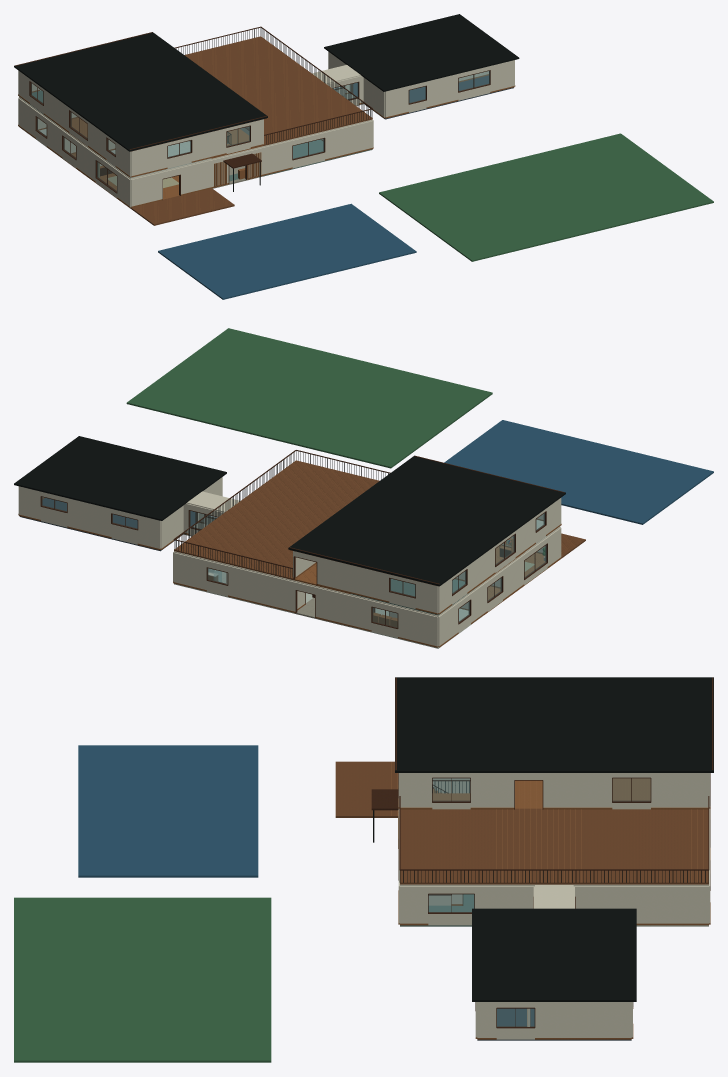
File: house.glb
3 renders of one model, top to bottom at view 1: azimuth 30°, elevation 25°; view 2: azimuth 150°, elevation 25°; view 3: azimuth 270°, elevation 25°, orthographic. The views are drawn at different scales.
Parts seen in each view (by area): view 1: V2_house_metal.006, V2_house_court_green.006, V2_house_plaster.006, V2_house_court_blue.006, V2_house_deck.006, V2_house_walnut.006, V2_house_glass.006, V2_house_oak.006, V2_house_rubber.006, V2_house_carpet.006, V2_house_tile.006; view 2: V2_house_metal.006, V2_house_court_green.006, V2_house_plaster.006, V2_house_court_blue.006, V2_house_deck.006, V2_house_walnut.006, V2_house_glass.006, V2_house_oak.006, V2_house_tile.006, V2_house_rubber.006, V2_house_carpet.006; view 3: V2_house_metal.006, V2_house_court_green.006, V2_house_deck.006, V2_house_court_blue.006, V2_house_plaster.006, V2_house_oak.006, V2_house_walnut.006, V2_house_glass.006, V2_house_oak2.006, V2_house_rubber.006.
Part boxes in pixels (bbox=[...]): V2_house_metal.006: bbox=[14, 14, 519, 191]; V2_house_court_green.006: bbox=[379, 133, 713, 261]; V2_house_plaster.006: bbox=[18, 51, 514, 207]; V2_house_court_blue.006: bbox=[158, 203, 416, 299]; V2_house_deck.006: bbox=[130, 36, 372, 225]; V2_house_walnut.006: bbox=[15, 26, 490, 199]; V2_house_glass.006: bbox=[31, 71, 489, 191]; V2_house_oak.006: bbox=[18, 74, 515, 208]; V2_house_rubber.006: bbox=[353, 75, 513, 119]; V2_house_carpet.006: bbox=[19, 90, 372, 181]; V2_house_tile.006: bbox=[19, 127, 211, 178]; V2_house_metal.006: bbox=[14, 436, 565, 586]; V2_house_court_green.006: bbox=[126, 328, 492, 468]; V2_house_plaster.006: bbox=[18, 477, 561, 647]; V2_house_court_blue.006: bbox=[444, 420, 713, 524]; V2_house_deck.006: bbox=[174, 460, 585, 580]; V2_house_walnut.006: bbox=[40, 450, 564, 628]; V2_house_glass.006: bbox=[42, 497, 546, 627]; V2_house_oak.006: bbox=[18, 497, 561, 647]; V2_house_tile.006: bbox=[174, 520, 560, 648]; V2_house_rubber.006: bbox=[19, 498, 195, 551]; V2_house_carpet.006: bbox=[350, 579, 478, 615]; V2_house_metal.006: bbox=[373, 677, 713, 1001]; V2_house_court_green.006: bbox=[14, 897, 271, 1062]; V2_house_deck.006: bbox=[335, 761, 708, 884]; V2_house_court_blue.006: bbox=[78, 745, 258, 877]; V2_house_plaster.006: bbox=[398, 773, 710, 1039]; V2_house_oak.006: bbox=[398, 778, 710, 1039]; V2_house_walnut.006: bbox=[371, 677, 713, 1028]; V2_house_glass.006: bbox=[429, 778, 650, 1026]; V2_house_oak2.006: bbox=[391, 762, 703, 882]; V2_house_rubber.006: bbox=[477, 1008, 631, 1040].
Size of the model in its own units: 58 by 7.31 by 54.4.
22 materials, 9 textured.
